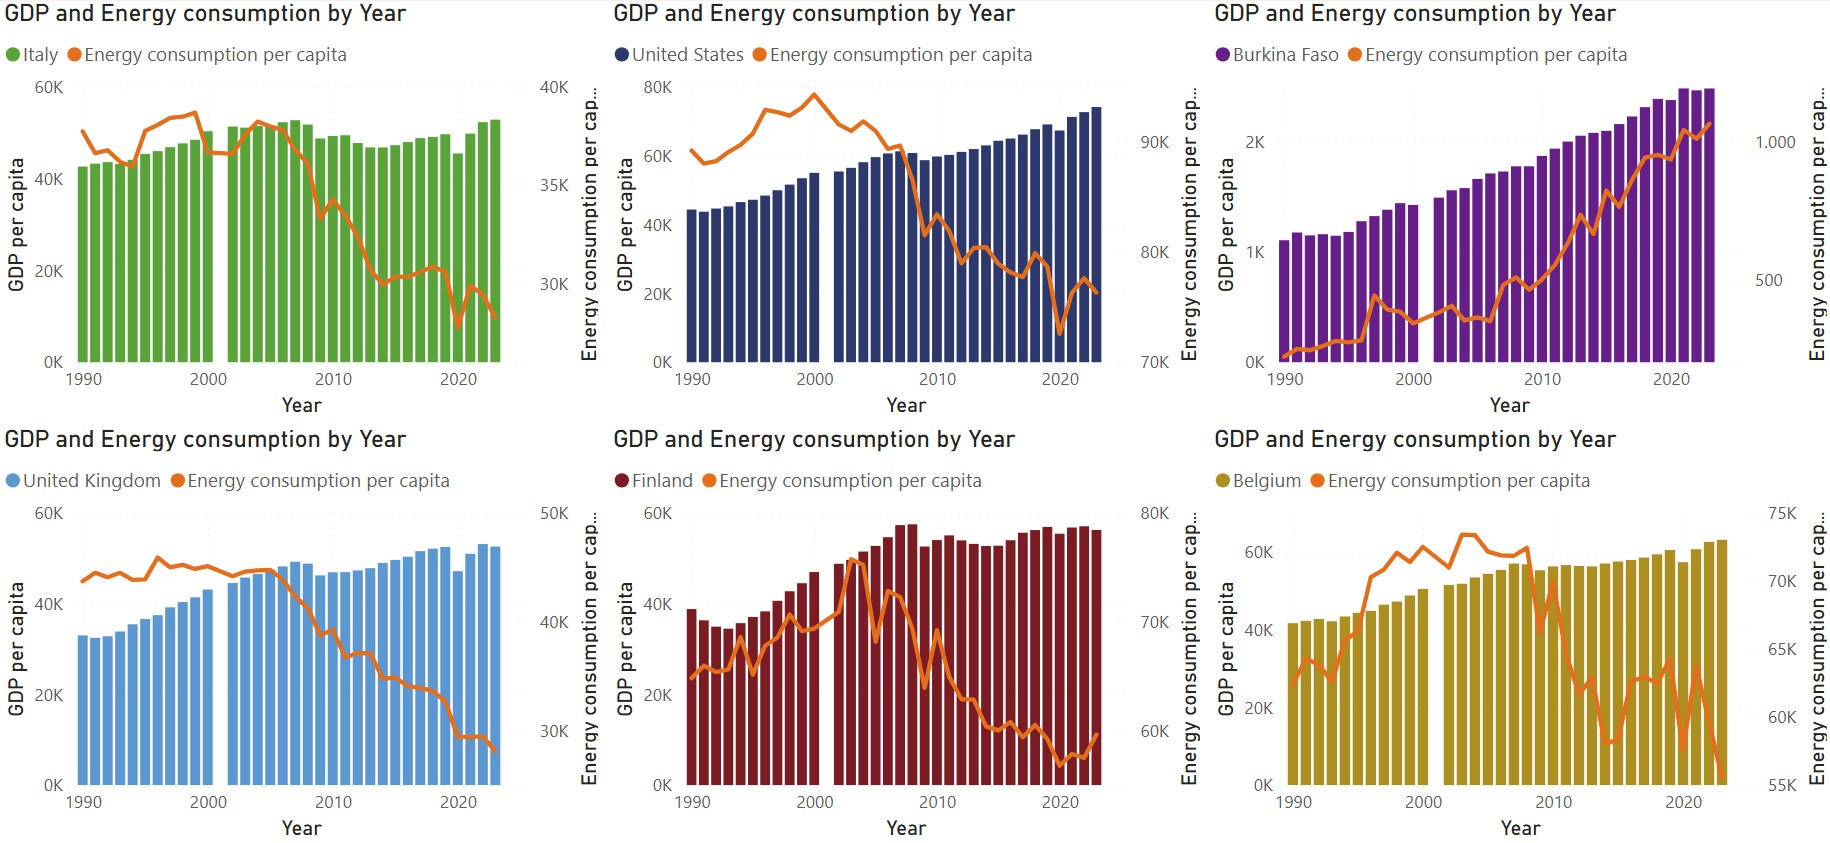

Layout of this report page (visuals, bound fields, positions):
{"tool":"powerbi","page":{"name":"gdp_vs_energy","canvas":[1280,720],"ordinal":8},"visuals":[{"type":"lineStackedColumnComboChart","title":"GDP and Energy consumption by Year","fields":{"Category":["SUMMARY_TABLE.year"],"Series":["SUMMARY_TABLE.country"],"Y":["Sum(SUMMARY_TABLE.gdp_per_capita)"],"Y2":["Sum(SUMMARY_TABLE.per_capita_energy_consumption)"]},"box":[0,0,424.5,297.2],"z":0},{"type":"lineStackedColumnComboChart","title":"GDP and Energy consumption by Year","fields":{"Category":["SUMMARY_TABLE.year"],"Series":["SUMMARY_TABLE.country"],"Y":["Sum(SUMMARY_TABLE.gdp_per_capita)"],"Y2":["Sum(SUMMARY_TABLE.per_capita_energy_consumption)"]},"box":[424.5,0,418.6,297.2],"z":1000},{"type":"lineStackedColumnComboChart","title":"GDP and Energy consumption by Year","fields":{"Category":["SUMMARY_TABLE.year"],"Series":["SUMMARY_TABLE.country"],"Y":["Sum(SUMMARY_TABLE.gdp_per_capita)"],"Y2":["Sum(SUMMARY_TABLE.per_capita_energy_consumption)"]},"box":[843,0,437,297.2],"z":2000},{"type":"lineStackedColumnComboChart","title":"GDP and Energy consumption by Year","fields":{"Category":["SUMMARY_TABLE.year"],"Series":["SUMMARY_TABLE.country"],"Y":["Sum(SUMMARY_TABLE.gdp_per_capita)"],"Y2":["Sum(SUMMARY_TABLE.per_capita_energy_consumption)"]},"box":[0,297.2,424.5,295],"z":3000},{"type":"lineStackedColumnComboChart","title":"GDP and Energy consumption by Year","fields":{"Category":["SUMMARY_TABLE.year"],"Series":["SUMMARY_TABLE.country"],"Y":["Sum(SUMMARY_TABLE.gdp_per_capita)"],"Y2":["Sum(SUMMARY_TABLE.per_capita_energy_consumption)"]},"box":[424.5,297.2,418.6,295],"z":4000},{"type":"lineStackedColumnComboChart","title":"GDP and Energy consumption by Year","fields":{"Category":["SUMMARY_TABLE.year"],"Series":["SUMMARY_TABLE.country"],"Y":["Sum(SUMMARY_TABLE.gdp_per_capita)"],"Y2":["Sum(SUMMARY_TABLE.per_capita_energy_consumption)"]},"box":[843,297.2,437,295],"z":5000}]}

Visuals, with their boxes on the page's 1280x720 design canvas (x1, y1, x2, y2). These are canvas units, not pixel positions in the 1830x843 screenshot, which may show the page scaled, cropped or inside an application window:
"GDP and Energy consumption by Year" lineStackedColumnComboChart: (0,0,424,297)
"GDP and Energy consumption by Year" lineStackedColumnComboChart: (424,0,843,297)
"GDP and Energy consumption by Year" lineStackedColumnComboChart: (843,0,1280,297)
"GDP and Energy consumption by Year" lineStackedColumnComboChart: (0,297,424,592)
"GDP and Energy consumption by Year" lineStackedColumnComboChart: (424,297,843,592)
"GDP and Energy consumption by Year" lineStackedColumnComboChart: (843,297,1280,592)
